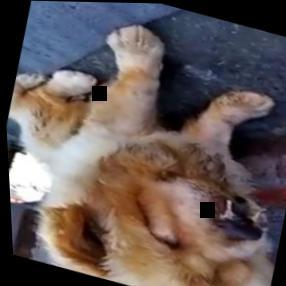nasal_discharge: (210, 194, 272, 247)
